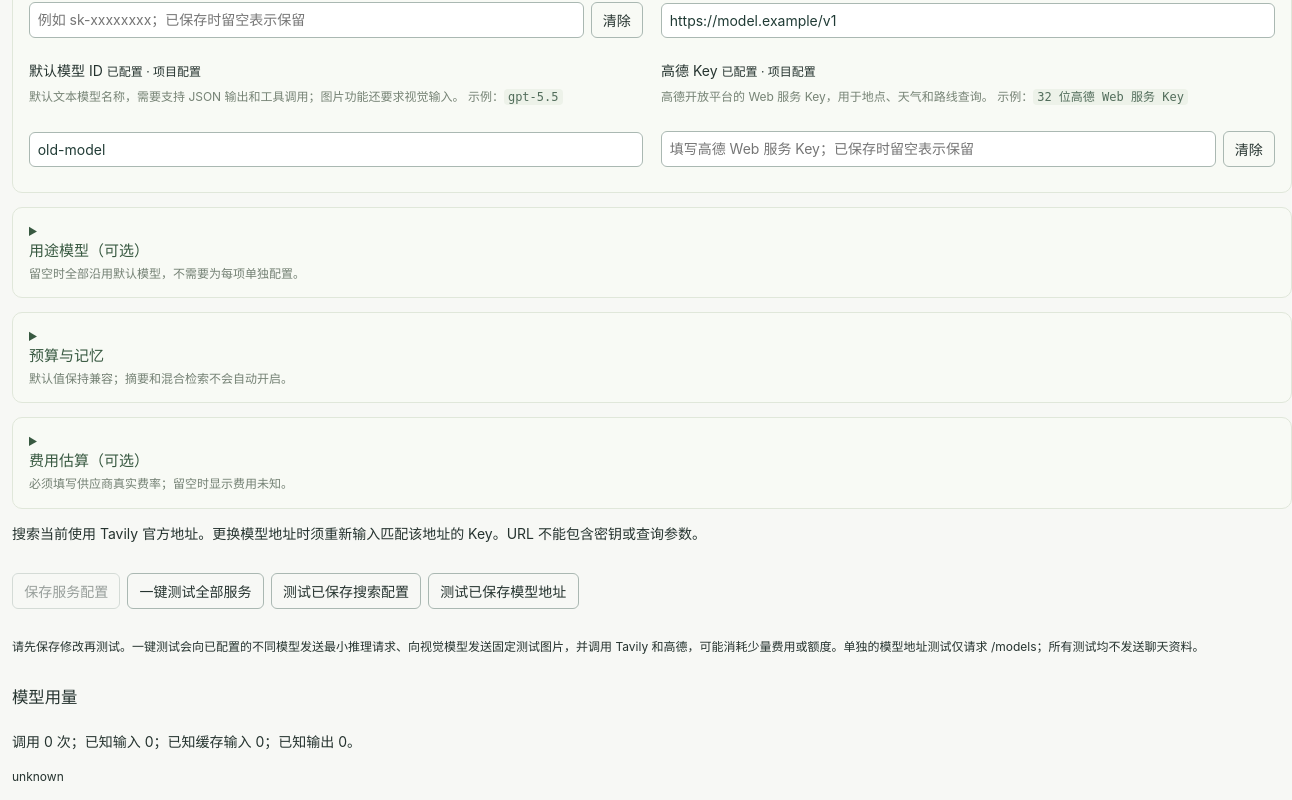
it: tests all saved services and shows a closable report with success, failure and skip rows
The width and height of the screenshot is (1292, 800).
(page scrolled)
Expected: the password field labelled "模型 Key 已配置 · 项目配置" is shown, [29, 2, 584, 38]
What coordinates should you click on to do the following:
click the button "一键测试全部服务"
I would click on:
 (196, 591)
Its box is [127, 573, 264, 609].
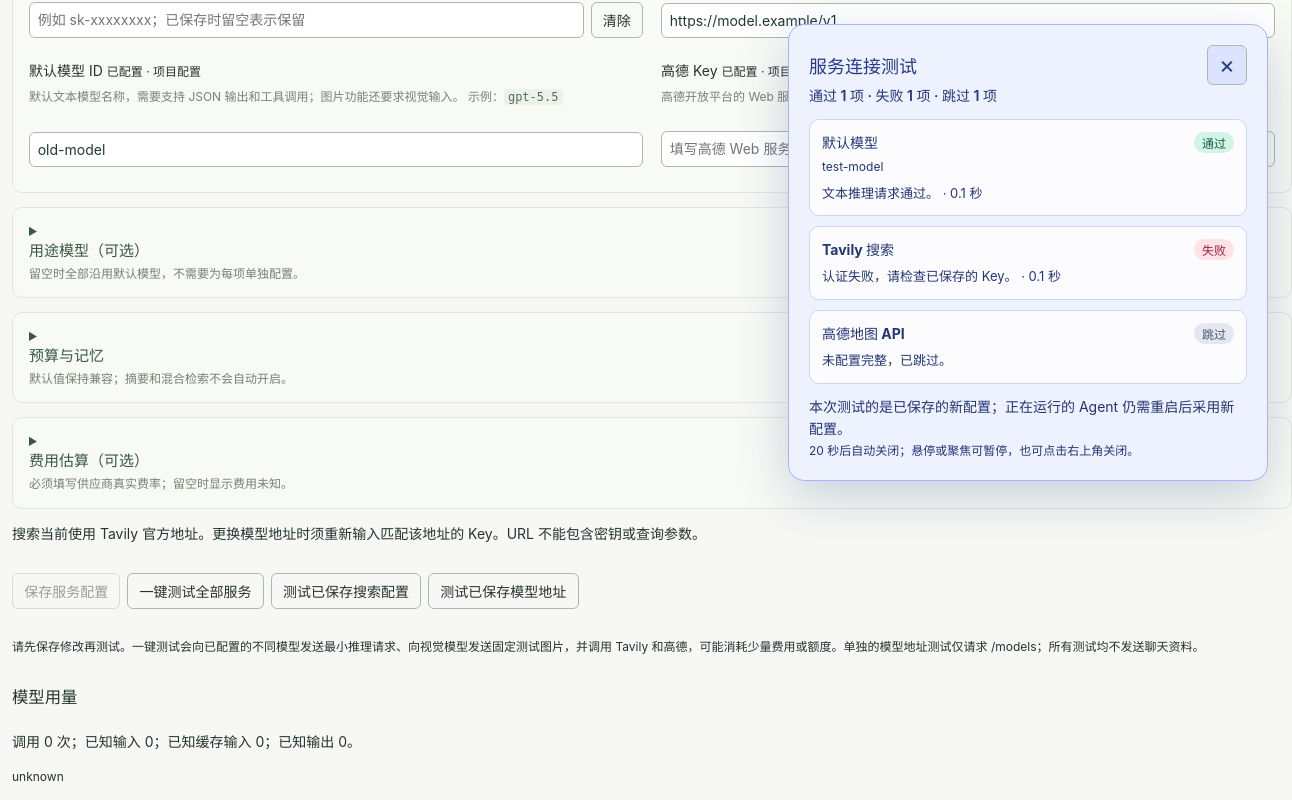
Result: the text "通过 1 项 · 失败 1 项 · 跳过 1 项" is shown at [809, 87, 997, 104]
Result: the text "文本推理请求通过。" is shown at [822, 185, 939, 201]
Result: the text "认证失败，请检查已保存的 Key。 · 0.1 秒" is shown at [822, 268, 1061, 284]
What coordinates should you click on to do the following:
click the button named "关闭服务测试结果"
I would click on:
 (1227, 65)
Its box is [1207, 45, 1247, 85].
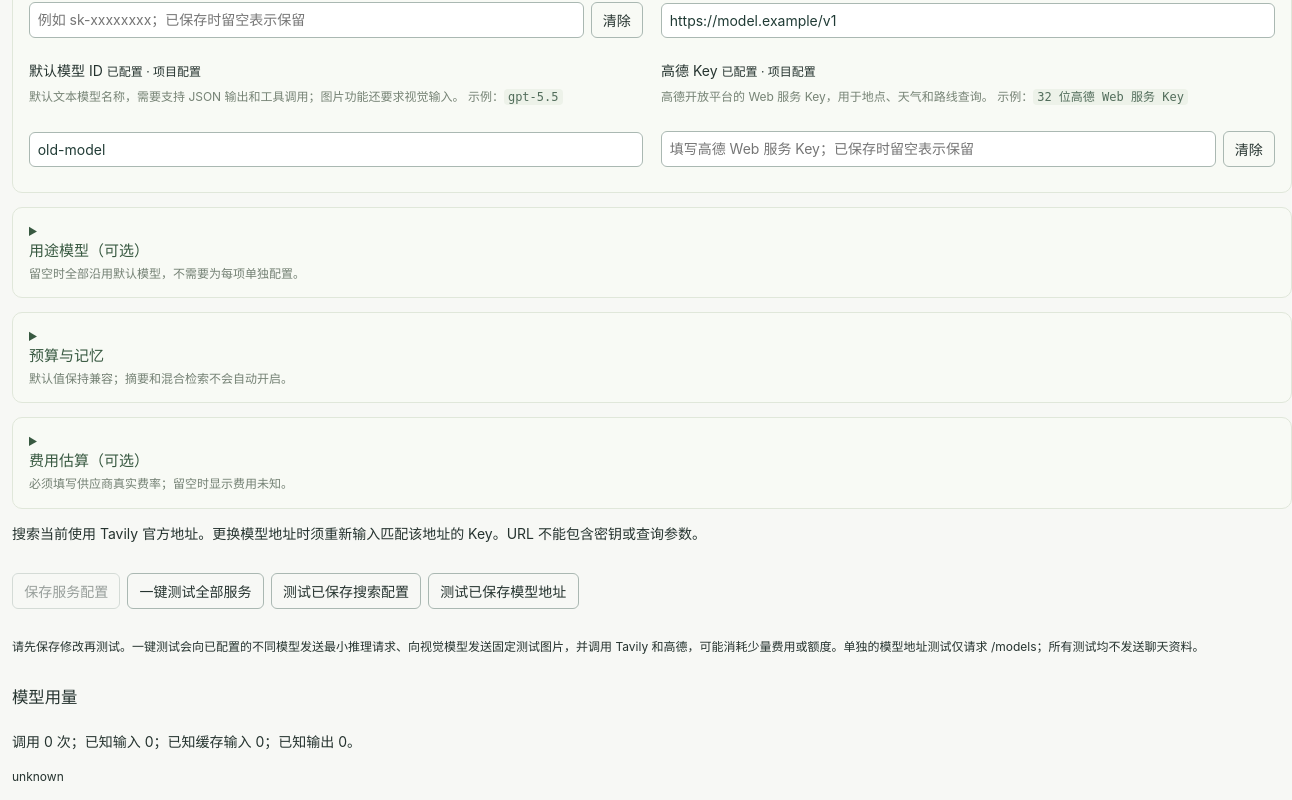
Result: the element "服务测试结果" is gone
